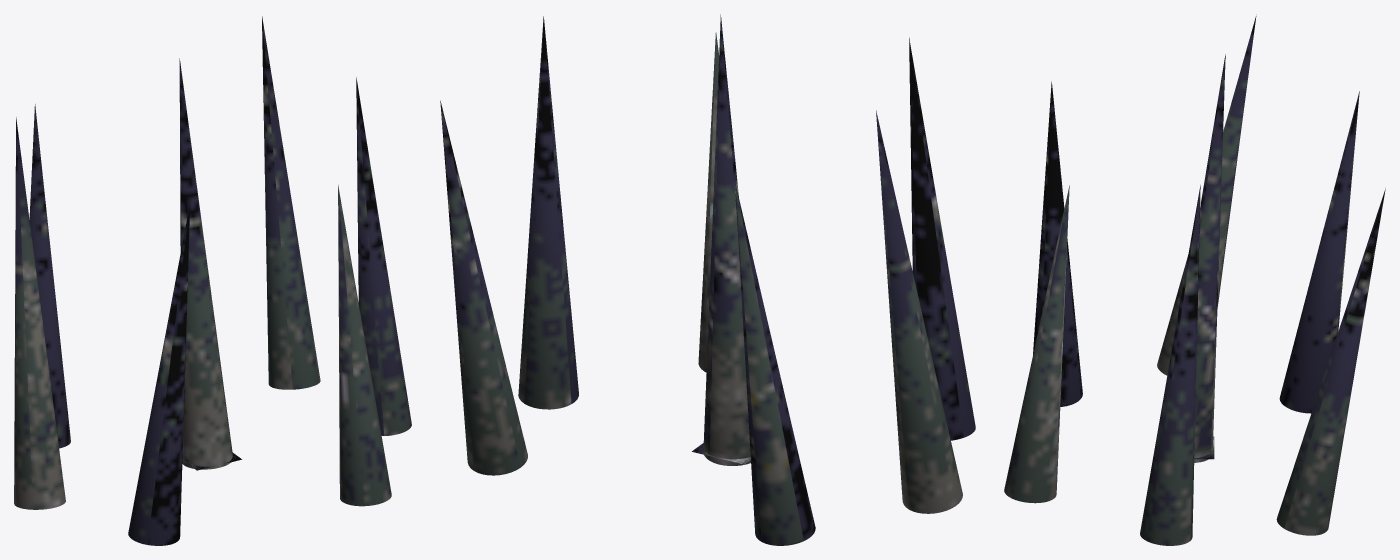
File: Obstacle 1.fbx
3 views of the same model, side by side, from view 1: azimuth 30°, elevation 25°; view 2: azimuth 150°, elevation 25°; view 3: azimuth 270°, elevation 25° (orthographic). The views are drawn at different scales.
Visible parts, largest first — view 1: Cone; view 2: Cone; view 3: Cone.
Part boxes in pixels (x1,y1,x2,y2): Cone: (14, 16, 411, 545); Cone: (440, 14, 975, 545); Cone: (1004, 14, 1385, 545).
Size of the model in its own units: 187 by 184 by 160.
